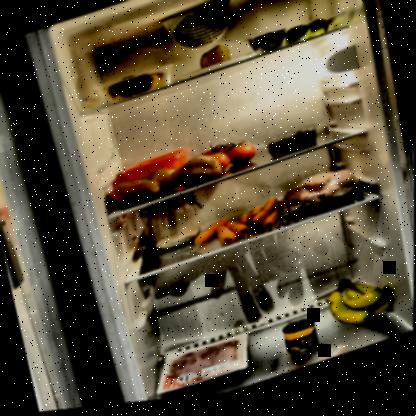banana: (318, 269, 403, 342)
blueberries: (267, 132, 320, 165)
butter: (120, 148, 197, 195)
carrot: (190, 199, 288, 260)
cheese: (194, 44, 236, 79)
chicken: (279, 164, 371, 231)
corn: (280, 319, 325, 363)
lime: (273, 20, 338, 57)
potato: (93, 56, 179, 112)
sweet_potato: (101, 149, 227, 219)
tomato: (196, 134, 262, 183)
